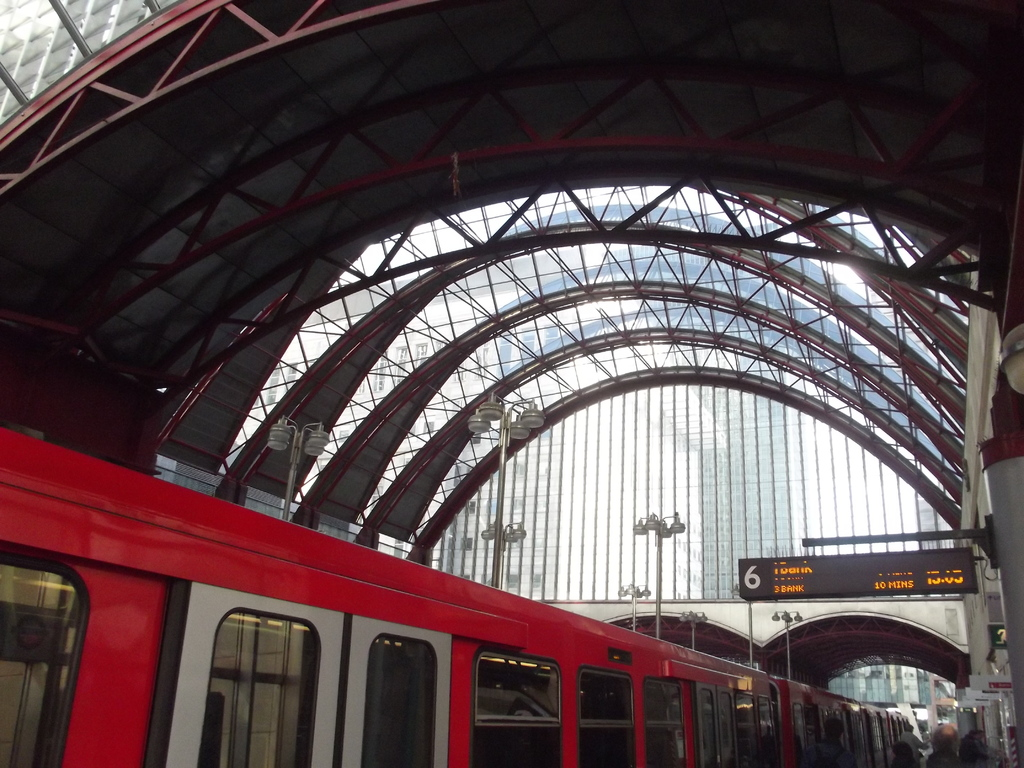train: (0, 427, 937, 767)
